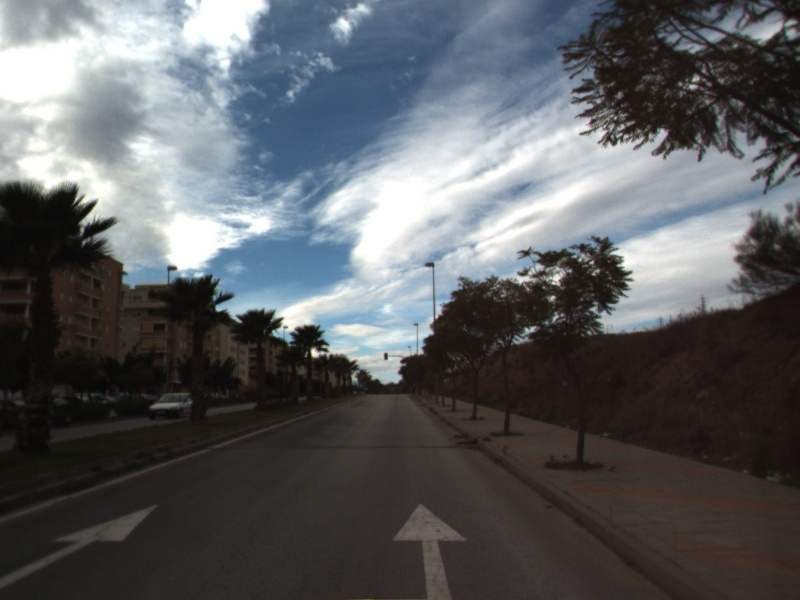STRAIGHT: (1, 502, 160, 590), (390, 500, 470, 600)
